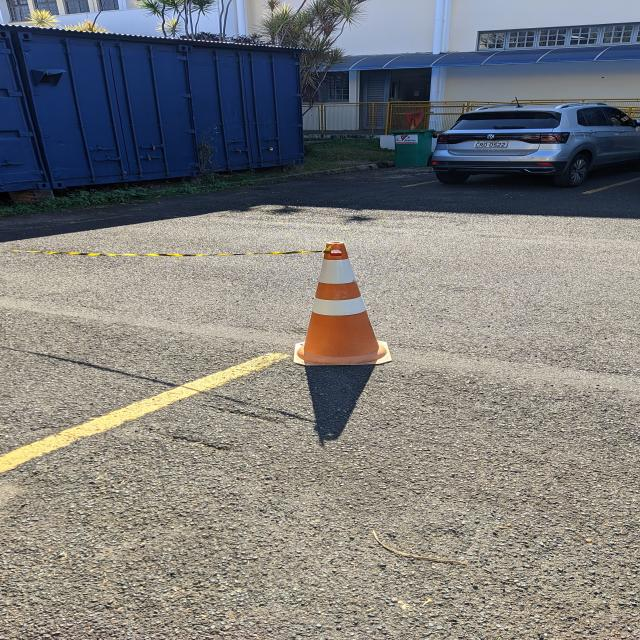cone: (286, 240, 399, 370)
